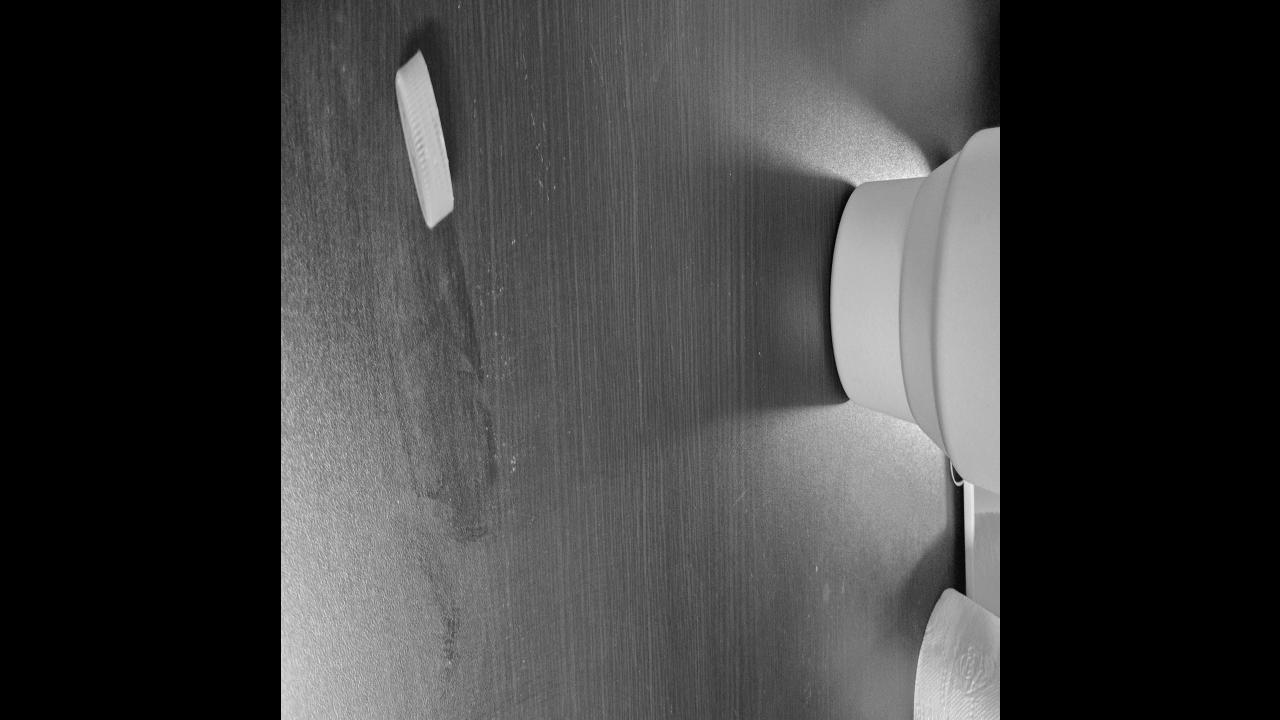bottle_cap: (394, 49, 454, 233)
